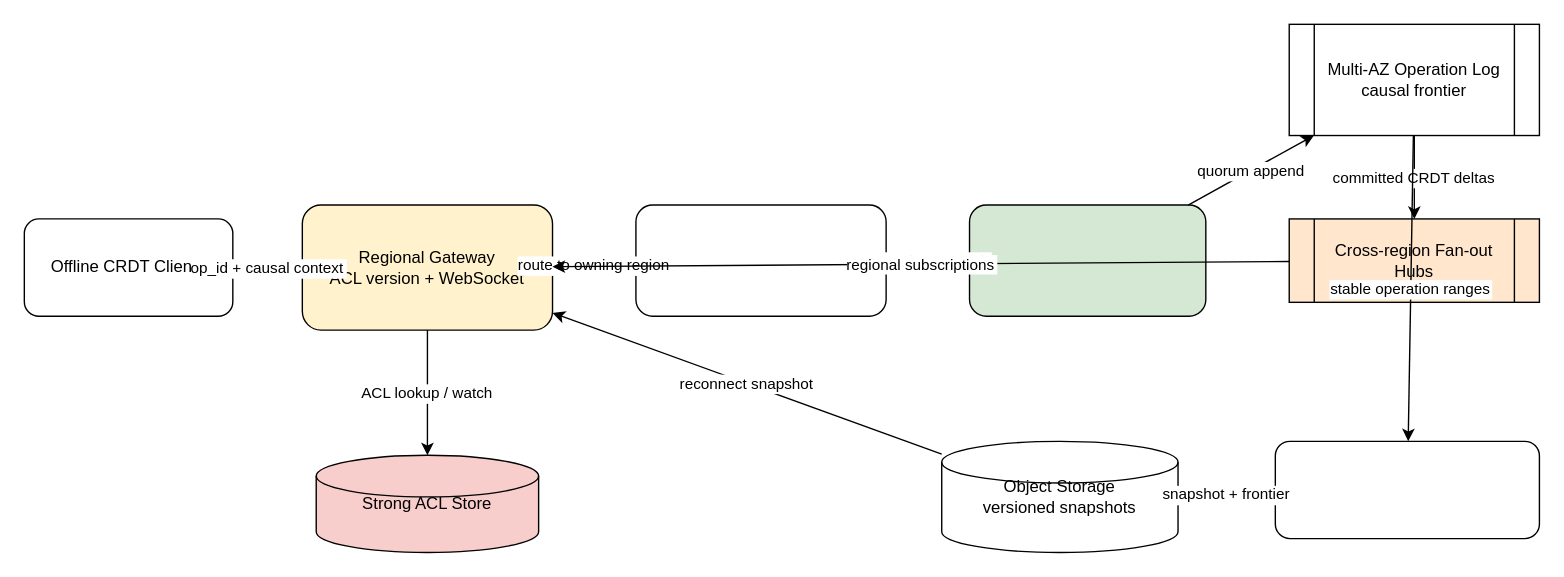
Image size: 1564x577. Some labels were removed from this diagram. The shapes that lost their labels are listed below. From the top down, each one's centre as x and y in pixels, then its label:
At (x=760, y=260): "Home Region Router document_id + epoch".
At (x=1087, y=260): "Fenced Sequencer CRDT validation".
At (x=1406, y=489): "Snapshot + Tombstone GC".
